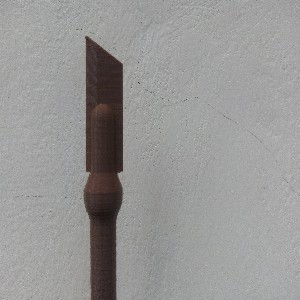cutter: (83, 34, 125, 298)
